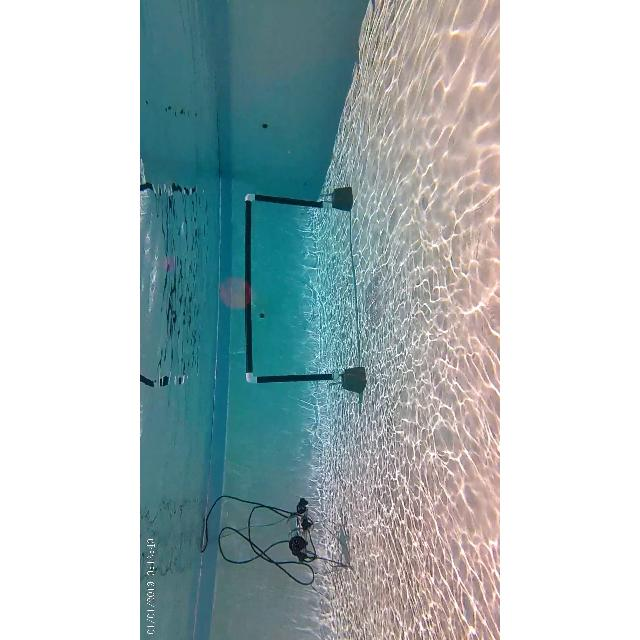prequal gate: (242, 192, 340, 386)
prequal gate leg l: (241, 361, 349, 395)
prequal gate leg r: (242, 186, 340, 218)
